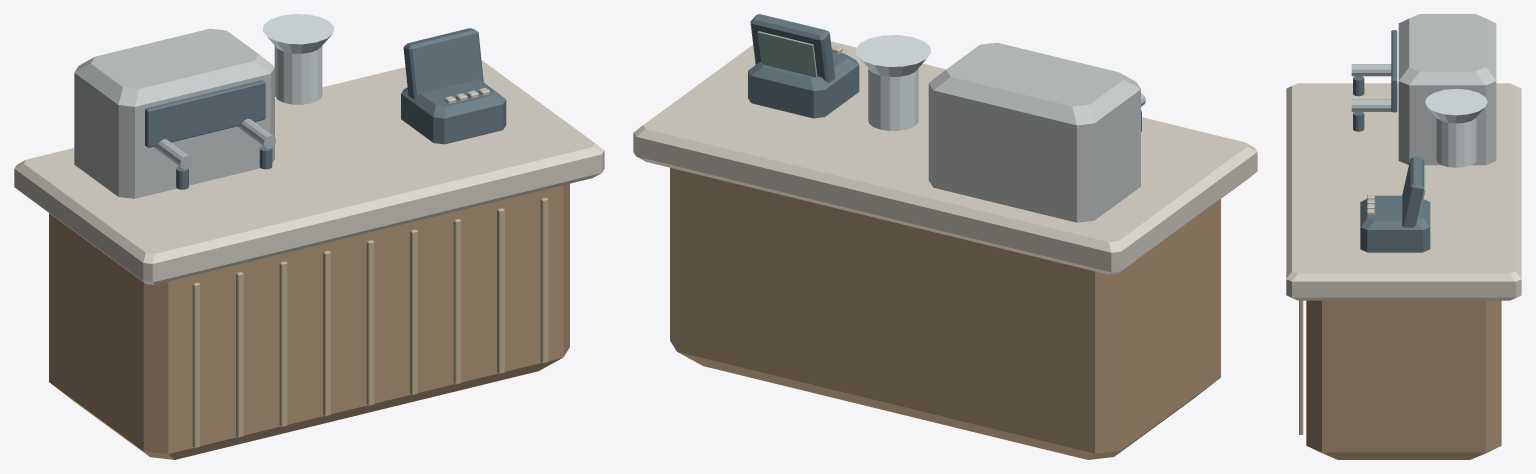
Rendered from coffee_counter.glb.
The picture shows the model from 3 angles, left to right: view 1: azimuth 30°, elevation 25°; view 2: azimuth 150°, elevation 25°; view 3: azimuth 270°, elevation 25°; orthographic projection. The views are drawn at different scales.
Visible parts, largest first — view 1: coffee_counter; view 2: coffee_counter; view 3: coffee_counter.
Boxes of the visible parts, box(x1,y1,x2,y2) form: coffee_counter: box(14, 14, 604, 459); coffee_counter: box(633, 14, 1257, 459); coffee_counter: box(1286, 14, 1521, 459).
Size of the model in its own units: 2.65 by 1.82 by 1.35.
